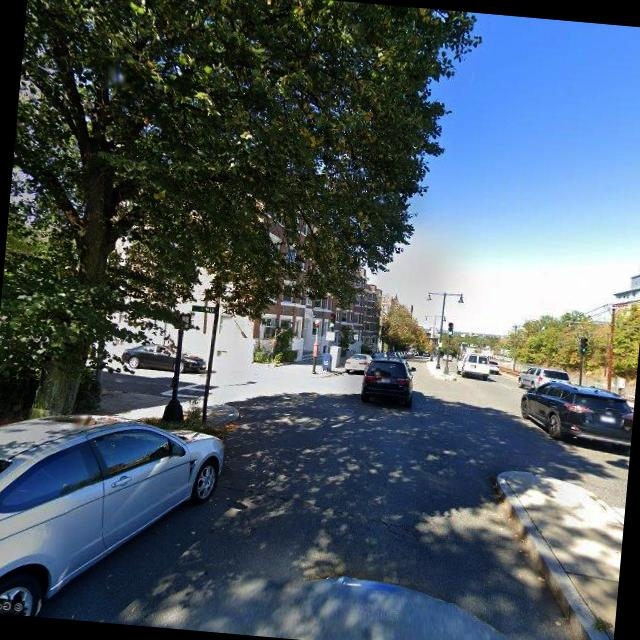crack: (218, 476, 458, 550)
